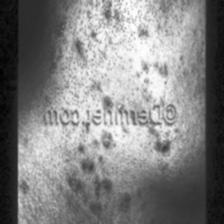Toxin: (94, 178, 114, 196), (80, 160, 96, 174), (162, 138, 170, 154)
